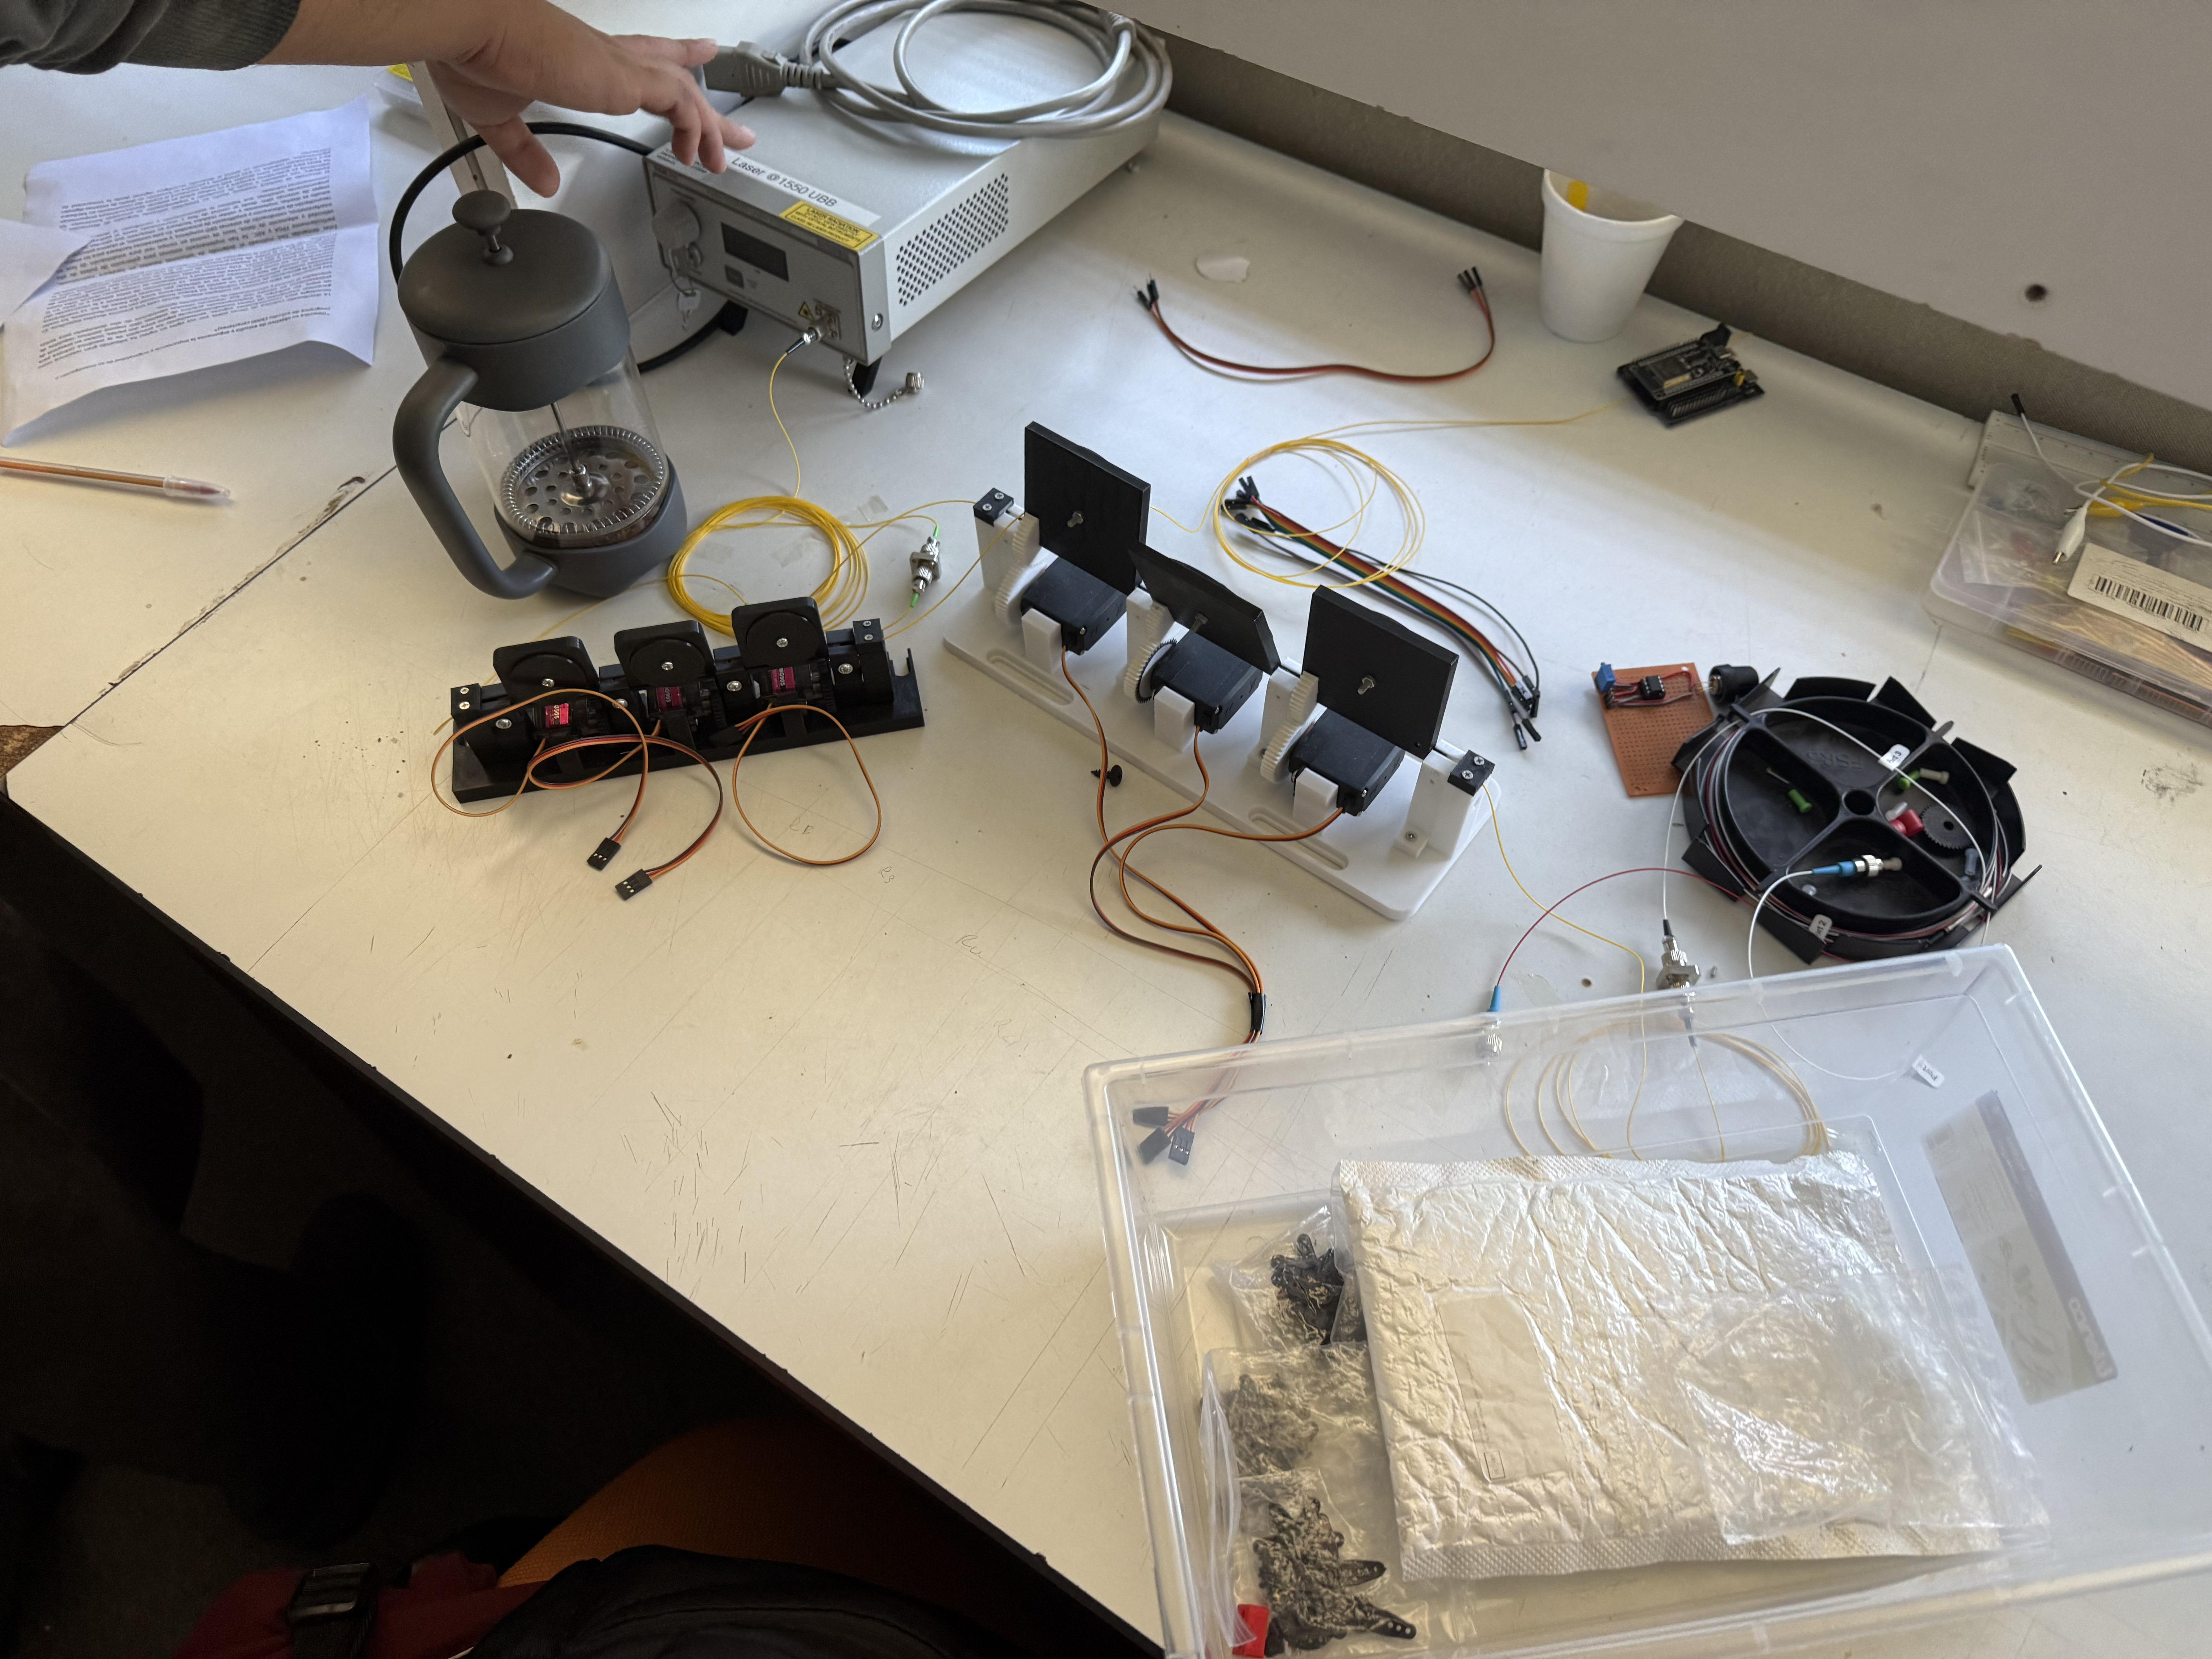laser: (644, 3, 1226, 416)
paddle_polarization_controller: (934, 408, 1573, 976), (439, 592, 967, 840)
